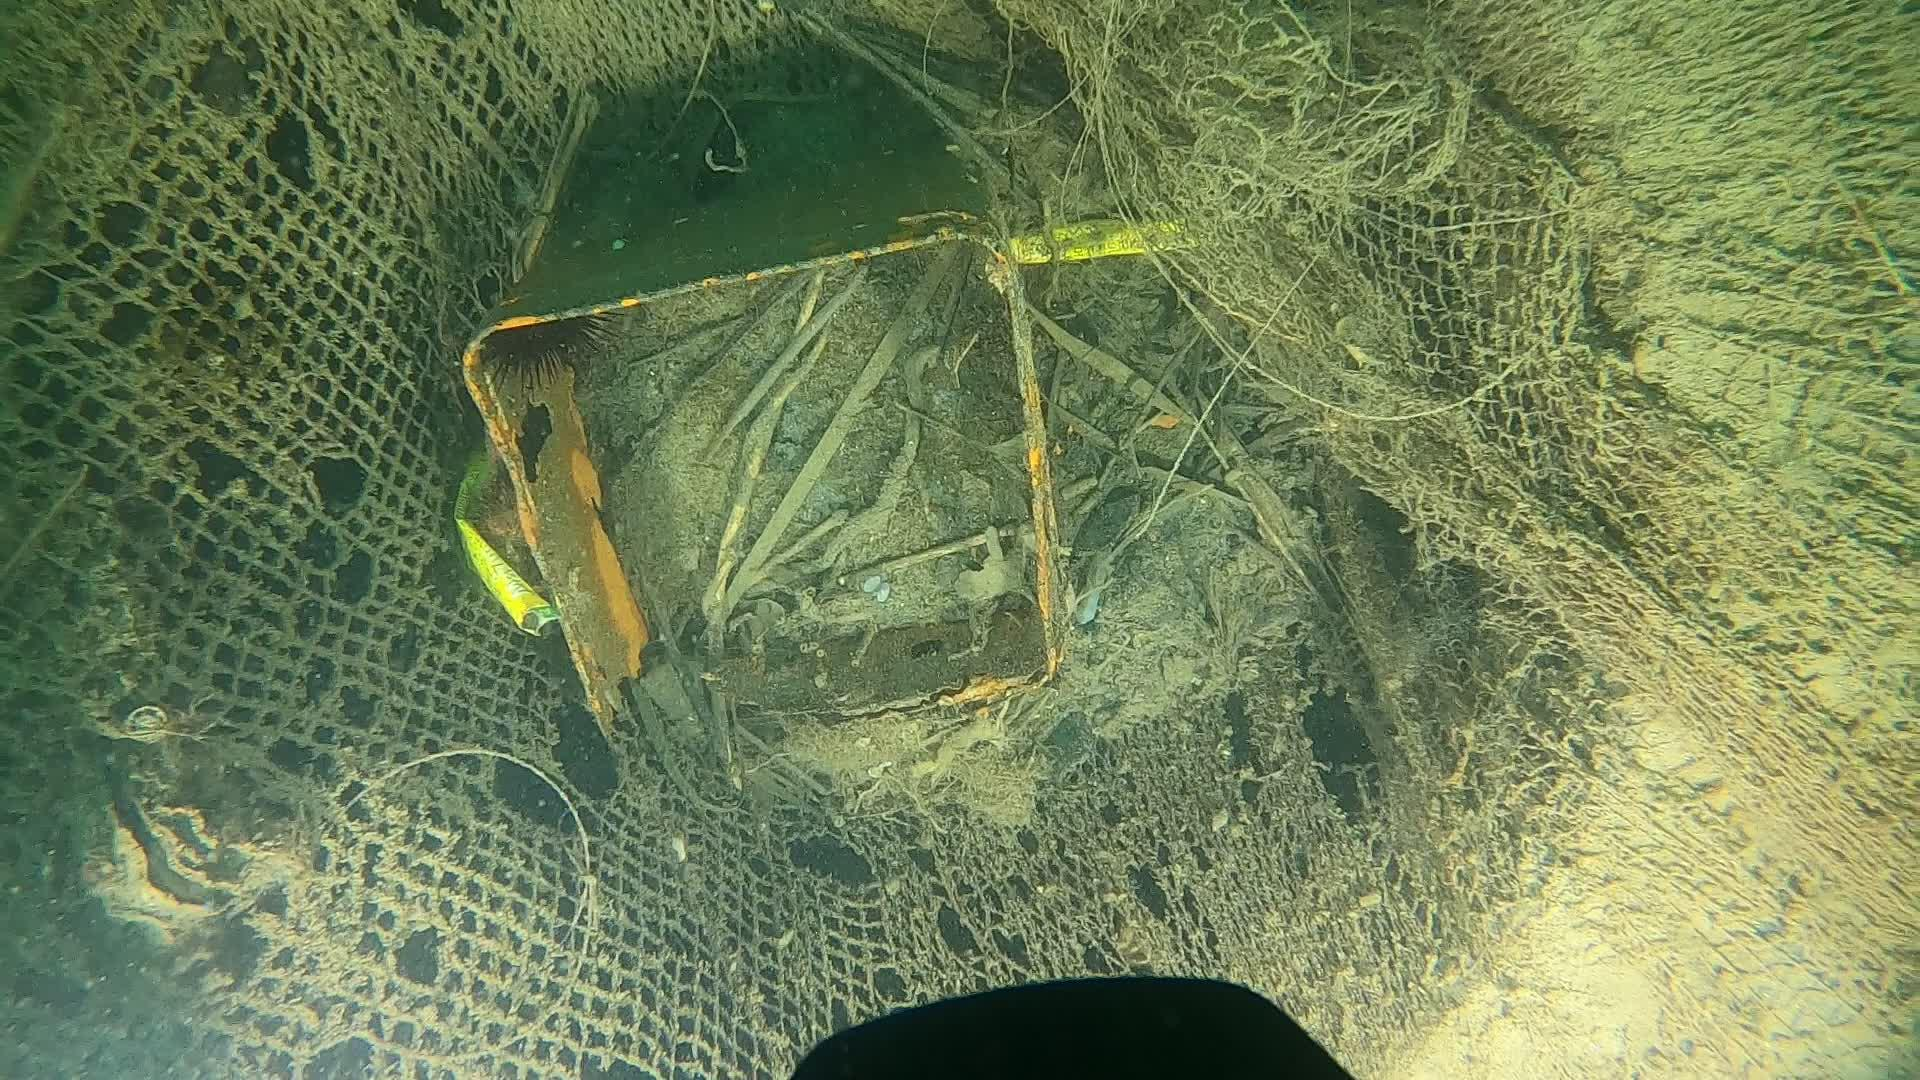fish net: (0, 0, 1441, 1080), (1327, 0, 1920, 953)
